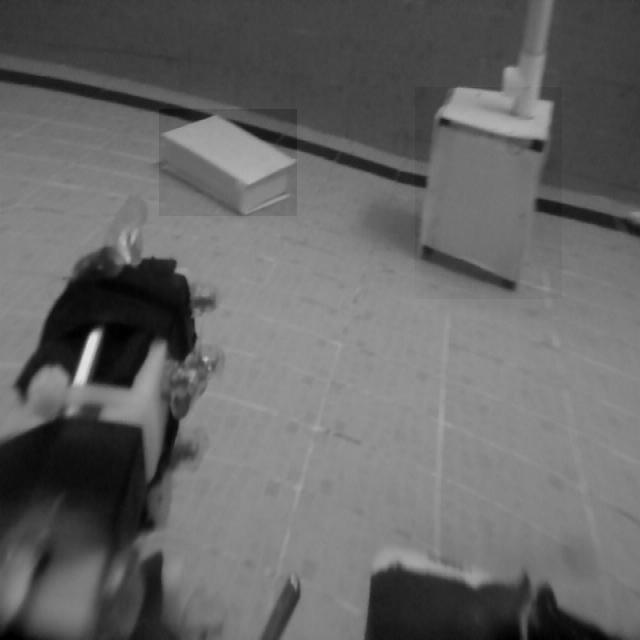Cube: (415, 87, 562, 299)
Cuboid: (159, 109, 297, 216)
